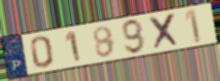0: (29, 34, 56, 70)
1: (184, 7, 203, 45), (63, 29, 82, 63)
8: (91, 25, 115, 59)
9: (121, 18, 148, 55)
X: (148, 11, 182, 51)
